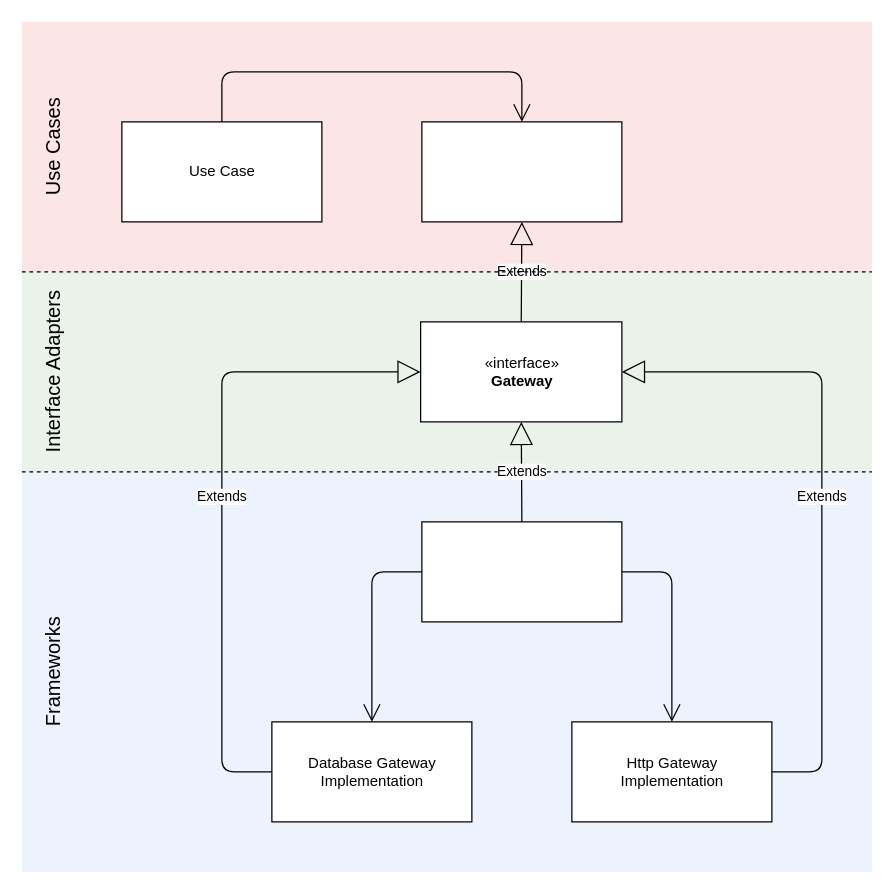
Image size: 895x893. Some labels were removed from this diagram. The centre of each missing label's shape, as x and y in pixels:
"Gateway Proxy" belongs at (521,571).
"«interface» Output Port" belongs at (521,171).
